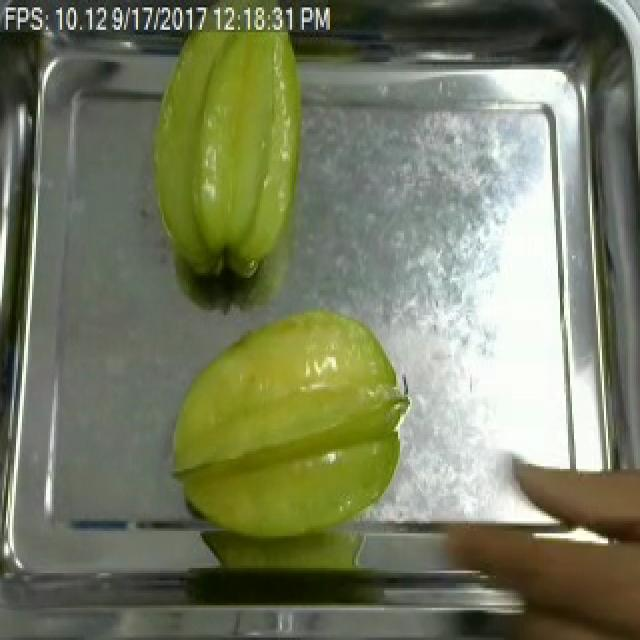fruit: (154, 298, 416, 558), (136, 30, 314, 292)
